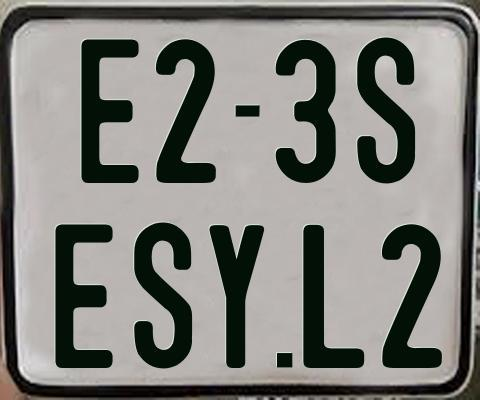2: (155, 39, 217, 183), (382, 221, 442, 369)
3: (273, 38, 335, 183)
E: (80, 37, 142, 187), (53, 223, 116, 370)
L: (300, 222, 367, 367)
S: (356, 37, 416, 188), (132, 221, 191, 368)
Y: (208, 222, 268, 370)
